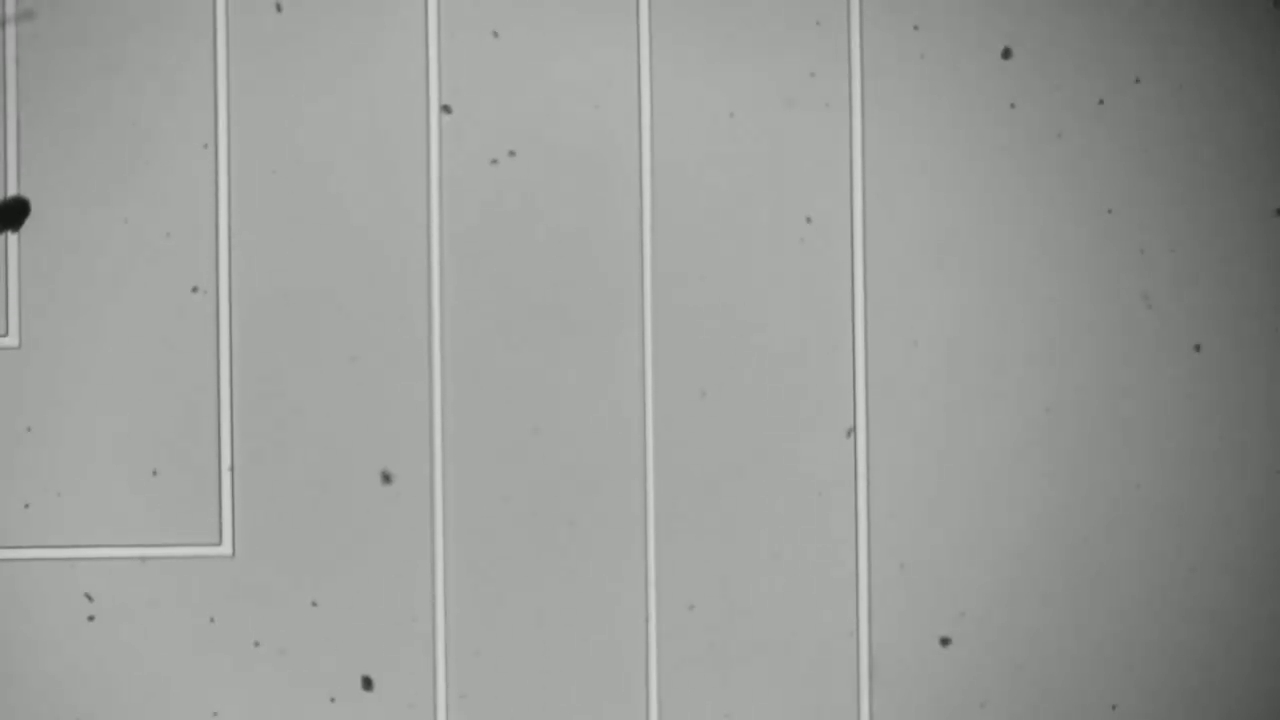stains_enbedded: (1, 188, 39, 238)
